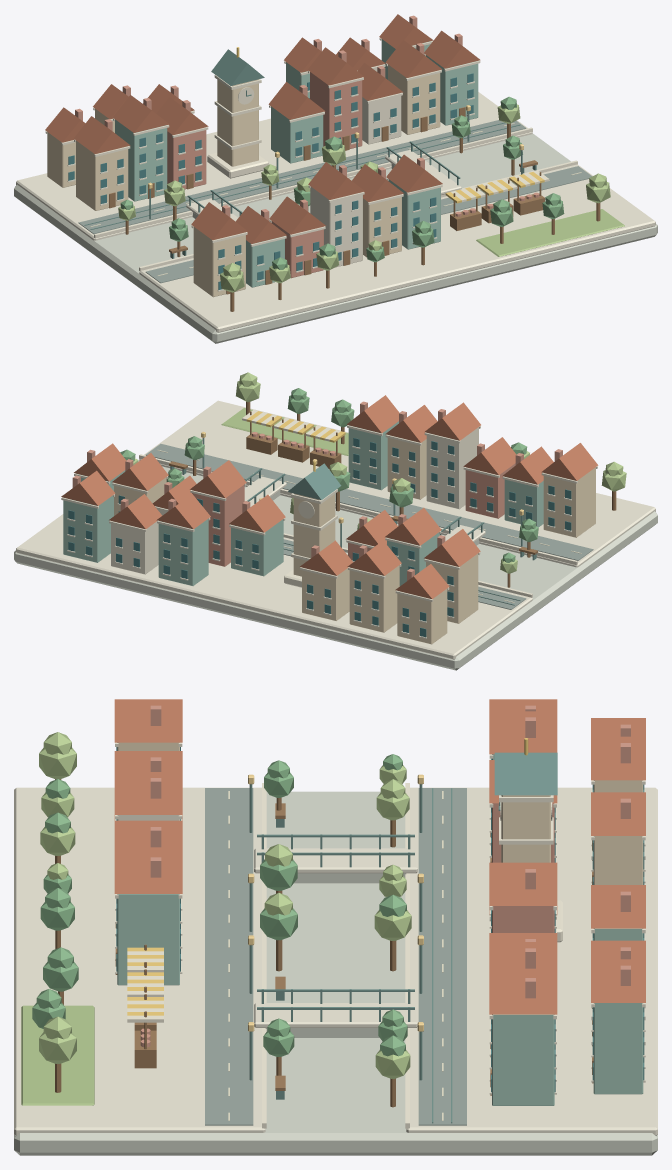
Rendered from canal-city.glb.
3 views of the same model, one above another, from view 1: azimuth 30°, elevation 25°; view 2: azimuth 150°, elevation 25°; view 3: azimuth 270°, elevation 25° (orthographic). The views are drawn at different scales.
Parts seen in each view (by area): view 1: City_paving, City_roof, City_stone, City_cream, City_white, City_mint, City_road, City_rose, City_leafLight, City_glass, City_wood, City_leaf (+2 smaller); view 2: City_roof, City_paving, City_cream, City_stone, City_mint, City_white, City_road, City_rose, City_glass, City_leafLight, City_leaf, City_wood (+2 smaller); view 3: City_paving, City_stone, City_roof, City_road, City_mint, City_leafLight, City_leaf, City_slate, City_white, City_cream, City_rose, City_wood (+2 smaller).
Boxes of the visible parts, <box> form: City_paving: <box>16,92,655,332</box>; City_roof: <box>45,14,480,243</box>; City_stone: <box>14,133,657,343</box>; City_cream: <box>47,64,440,297</box>; City_white: <box>45,38,577,291</box>; City_mint: <box>115,39,478,287</box>; City_road: <box>78,120,592,283</box>; City_rose: <box>75,15,539,278</box>; City_leafLight: <box>118,104,624,292</box>; City_glass: <box>68,73,473,290</box>; City_wood: <box>109,107,600,311</box>; City_leaf: <box>120,96,564,269</box>; City_roof: <box>61,395,598,599</box>; City_paving: <box>16,400,655,659</box>; City_cream: <box>114,435,595,644</box>; City_stone: <box>14,460,657,670</box>; City_mint: <box>63,421,543,586</box>; City_white: <box>61,410,597,638</box>; City_road: <box>146,443,593,609</box>; City_rose: <box>72,401,562,580</box>; City_glass: <box>68,438,571,637</box>; City_leafLight: <box>133,372,626,573</box>; City_leaf: <box>120,388,538,562</box>; City_wood: <box>169,401,616,587</box>; City_paving: <box>14,787,657,1135</box>; City_stone: <box>14,791,657,1155</box>; City_roof: <box>114,699,645,1014</box>; City_road: <box>205,788,466,1125</box>; City_mint: <box>117,754,643,1105</box>; City_leafLight: <box>21,732,411,1105</box>; City_leaf: <box>32,754,407,1056</box>; City_slate: <box>249,752,557,1123</box>; City_white: <box>115,742,645,1128</box>; City_cream: <box>117,742,643,884</box>; City_rose: <box>140,705,630,1047</box>; City_wood: <box>55,779,593,1107</box>.
Bounding box in the file's own units: 28 × 8.15 × 22.
